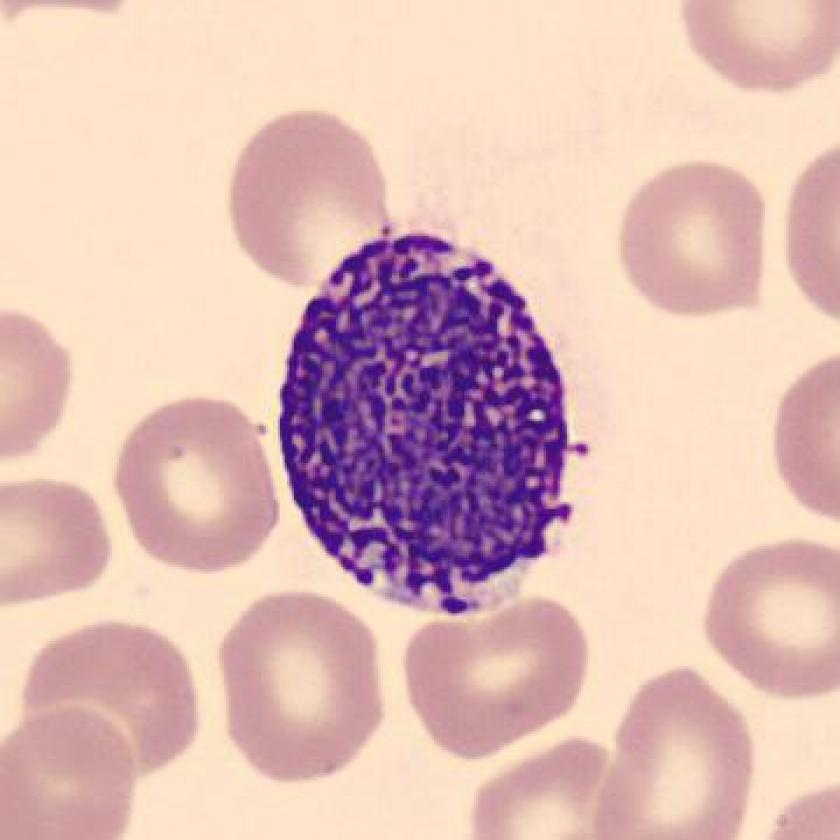basophil: (272, 228, 591, 619)
